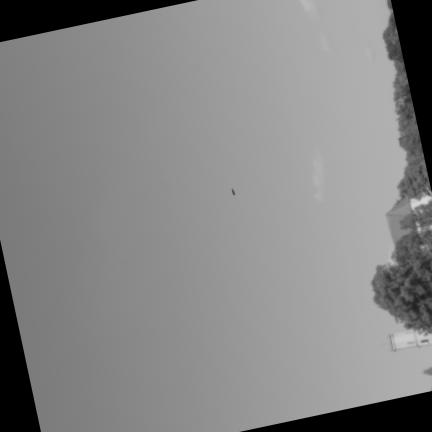Shahed: (231, 187, 236, 195)
